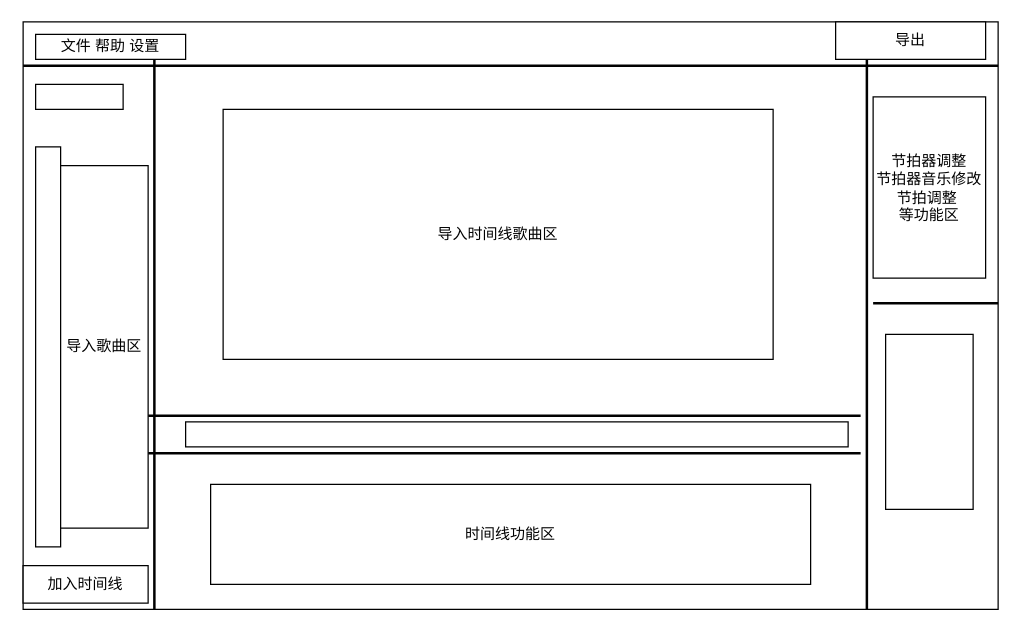
The diagram is 1020 pixels wide and 633 high, and some of its shapes have lost their labels. Each missing label, with the box of its shape:
各个歌曲的勾选框（每个歌单独勾选）: (34, 146, 61, 547)
对选择的歌曲做调整: (884, 333, 973, 509)
导入歌曲: (34, 83, 123, 109)
添加节拍器 试听 撤销 等 功能区: (184, 421, 848, 447)
